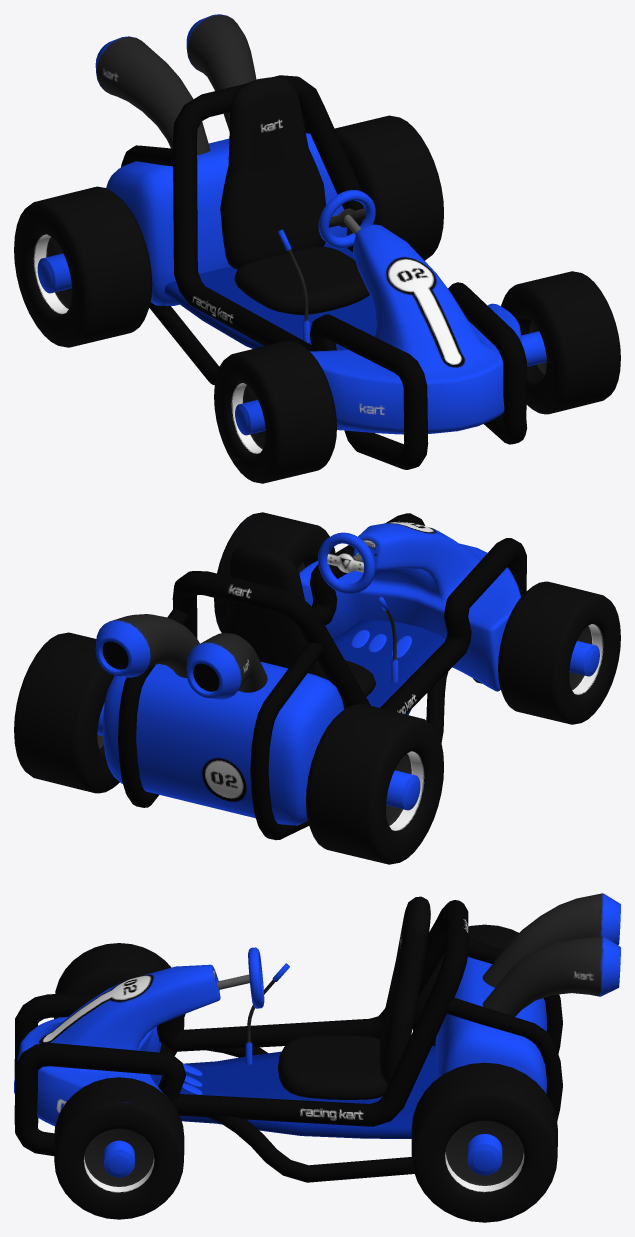
The model's file is kart.glb.
3 renders of one model, top to bottom at view 1: azimuth 30°, elevation 25°; view 2: azimuth 150°, elevation 25°; view 3: azimuth 270°, elevation 25°, orthographic. The views are drawn at different scales.
Visible parts, largest first — view 1: kart_body, fairing, wheel_rr, wheel_fr, wheel_fl, exhaust, wheel_rl, steering_wheel; view 2: kart_body, wheel_rr, fairing, wheel_fr, wheel_rl, exhaust, wheel_fl, steering_wheel; view 3: kart_body, wheel_rl, wheel_fl, fairing, exhaust, wheel_fr, wheel_rr, steering_wheel.
Boxes of the visible parts, <box> form: kart_body: <box>106,75,527,469</box>; fairing: <box>309,224,522,434</box>; wheel_rr: <box>14,186,152,347</box>; wheel_fr: <box>214,340,336,483</box>; wheel_fl: <box>501,271,620,414</box>; exhaust: <box>95,14,256,154</box>; wheel_rl: <box>335,115,443,260</box>; steering_wheel: <box>318,190,375,248</box>; kart_body: <box>103,513,526,840</box>; wheel_rr: <box>306,703,443,864</box>; fairing: <box>299,521,520,691</box>; wheel_fr: <box>498,581,620,724</box>; wheel_rl: <box>14,632,119,793</box>; exhaust: <box>95,614,267,699</box>; wheel_fl: <box>214,512,335,632</box>; steering_wheel: <box>318,532,375,594</box>; kart_body: <box>14,896,562,1182</box>; wheel_rl: <box>411,1062,557,1222</box>; wheel_fl: <box>54,1077,184,1219</box>; fairing: <box>14,964,220,1126</box>; exhaust: <box>482,893,620,1016</box>; wheel_fr: <box>54,943,184,1055</box>; wheel_rr: <box>412,924,518,1045</box>; steering_wheel: <box>248,947,264,1008</box>.
Size of the model in its own units: 1.26 by 0.7999 by 1.85.
Materials: 1 (1 with a texture image).
